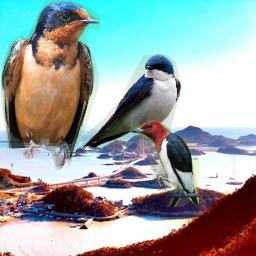Swallow: (1, 0, 100, 170), (82, 54, 181, 149)
Woodpecker: (129, 120, 199, 207)
